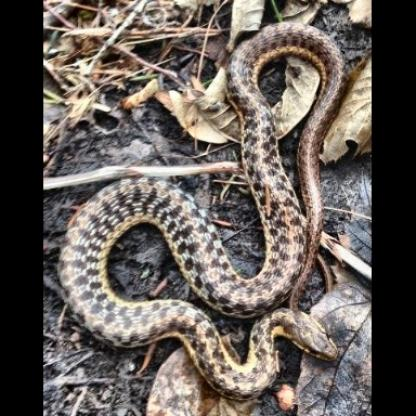Snake: (53, 20, 350, 411)
